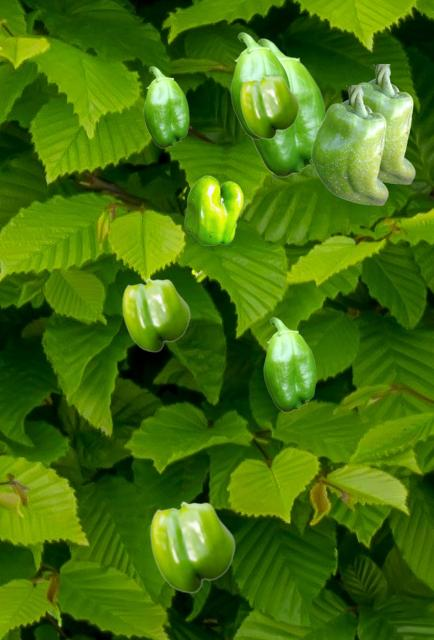bell_pepper: (251, 38, 325, 176), (311, 85, 387, 204), (150, 501, 234, 592), (357, 64, 414, 183), (230, 32, 290, 138), (122, 278, 189, 351), (263, 317, 315, 411), (184, 175, 242, 244), (240, 75, 298, 138), (143, 66, 188, 147)
